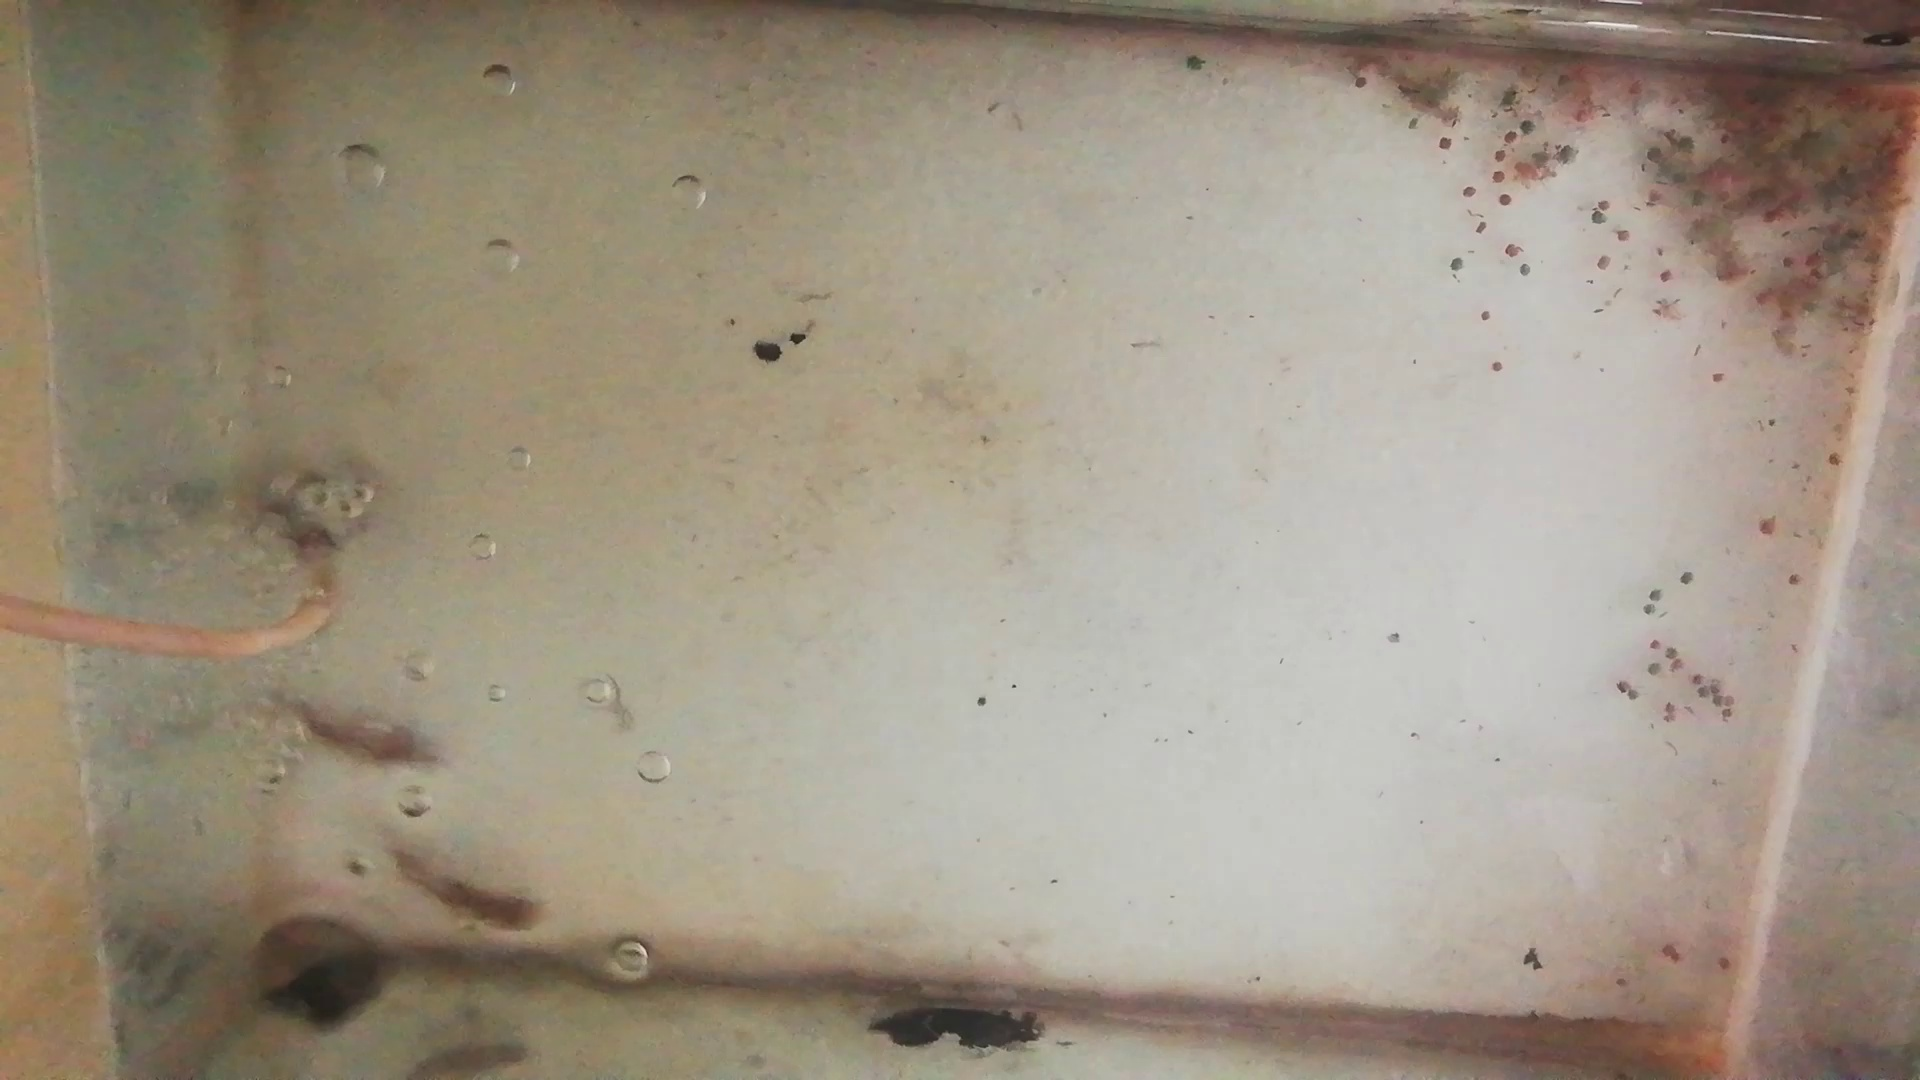fish: (373, 833, 549, 928), (255, 676, 429, 769)
